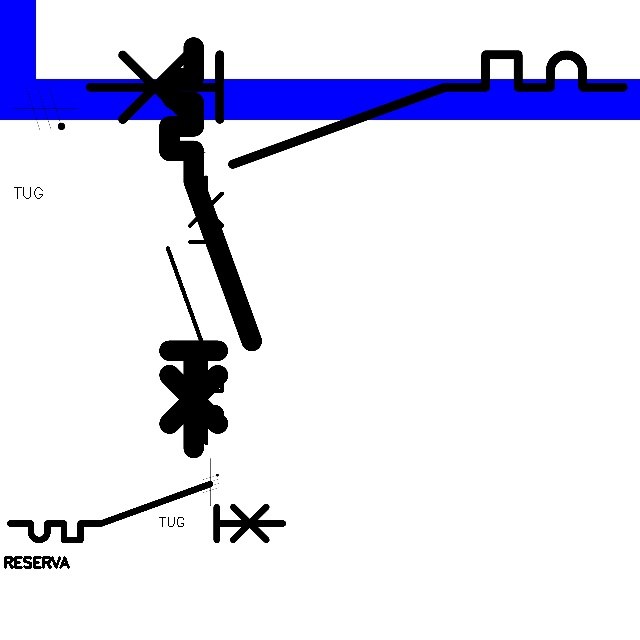interruptor_termomagnetico: (76, 41, 636, 178), (159, 37, 262, 458), (3, 477, 290, 547), (161, 170, 229, 449)
